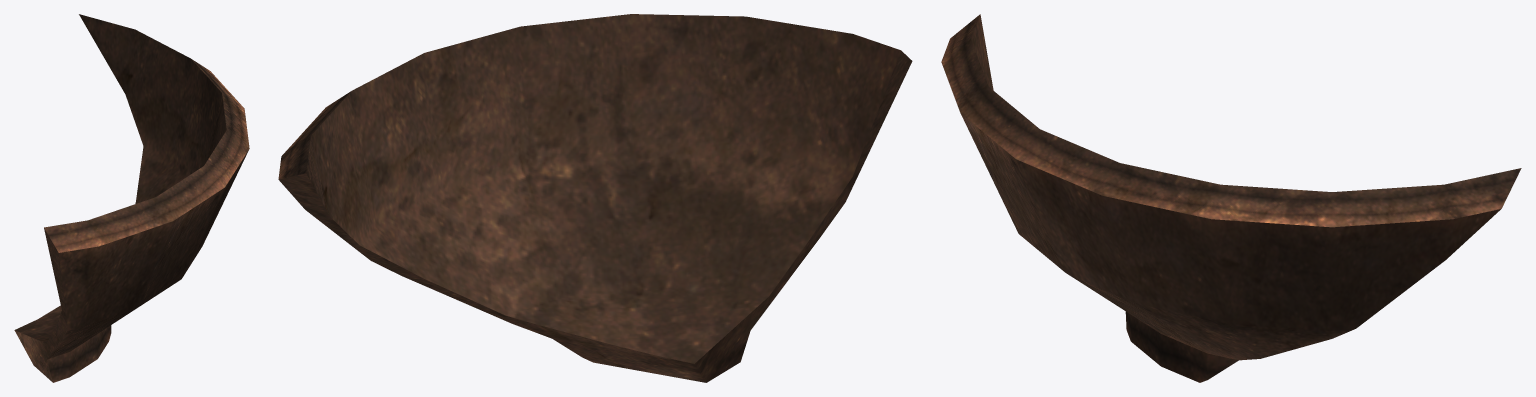
File: BowlEmptyShardC.fbx
The picture shows the model from 3 angles, left to right: view 1: azimuth 30°, elevation 25°; view 2: azimuth 150°, elevation 25°; view 3: azimuth 270°, elevation 25°; orthographic projection. The views are drawn at different scales.
Parts seen in each view (by area): view 1: Default_Layer; view 2: Default_Layer; view 3: Default_Layer.
Part boxes in pixels (box(x1,y1,x2,y2)): Default_Layer: box(14, 14, 249, 382); Default_Layer: box(278, 14, 912, 382); Default_Layer: box(941, 14, 1521, 382).
Bounding box in the file's own units: 36.63 × 24.59 × 47.12.
